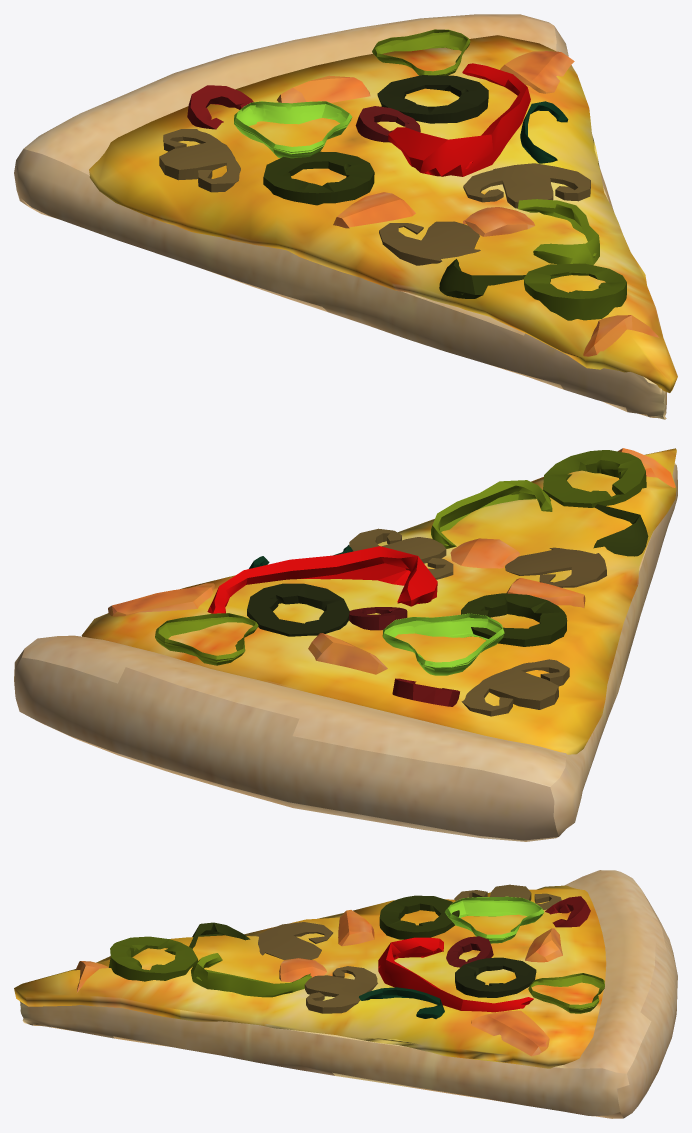
3 views of the same model, one above another, from view 1: azimuth 30°, elevation 25°; view 2: azimuth 150°, elevation 25°; view 3: azimuth 270°, elevation 25° (orthographic). The views are drawn at different scales.
Visible parts, largest first — view 1: pizza; view 2: pizza; view 3: pizza.
Boxes of the visible parts, left/top/right/bottom form: pizza: left=14, top=14, right=677, bottom=419; pizza: left=14, top=448, right=677, bottom=841; pizza: left=14, top=870, right=677, bottom=1118.
Bounding box in the file's own units: 10.78 × 2.09 × 14.38.
Materials: 1 (1 with a texture image).
